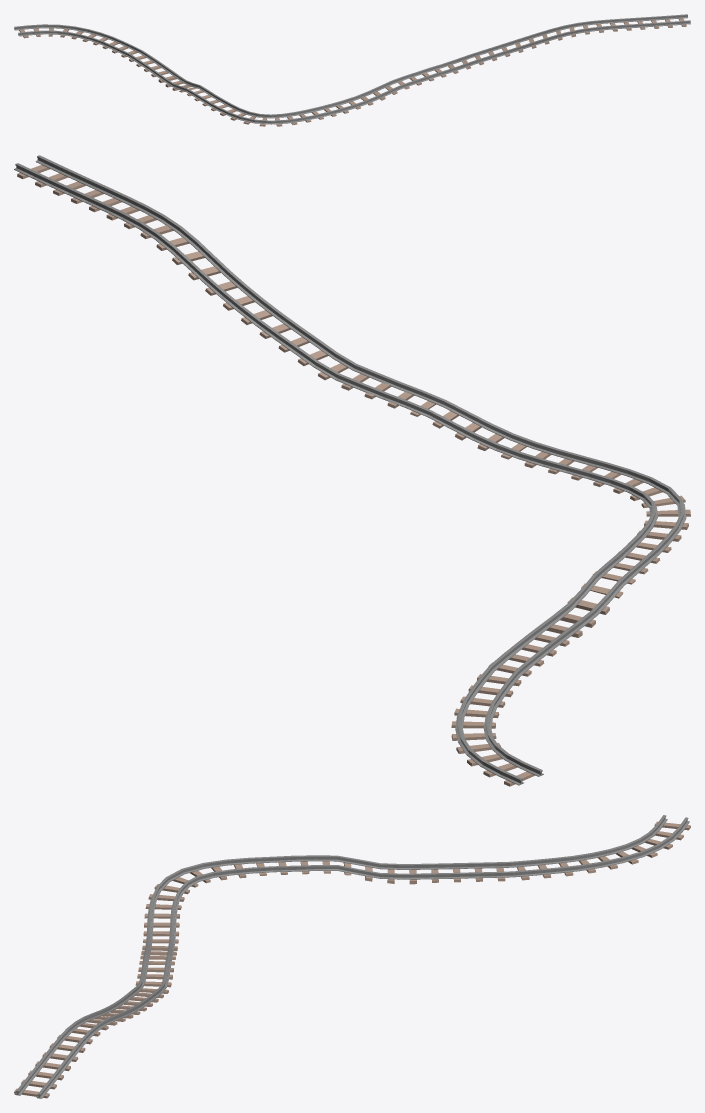
Rendered from Town Mine Rails.glb.
3 views of the same model, one above another, from view 1: azimuth 30°, elevation 25°; view 2: azimuth 150°, elevation 25°; view 3: azimuth 270°, elevation 25° (orthographic). The views are drawn at different scales.
Parts seen in each view (by area): view 1: Rails-col; view 2: Rails-col; view 3: Rails-col.
Boxes of the visible parts, x1,y1,x2,y2 form: Rails-col: (14, 14, 690, 126); Rails-col: (14, 155, 690, 786); Rails-col: (14, 815, 690, 1098).
Size of the model in its own units: 44.83 by 5.18 by 35.76.
